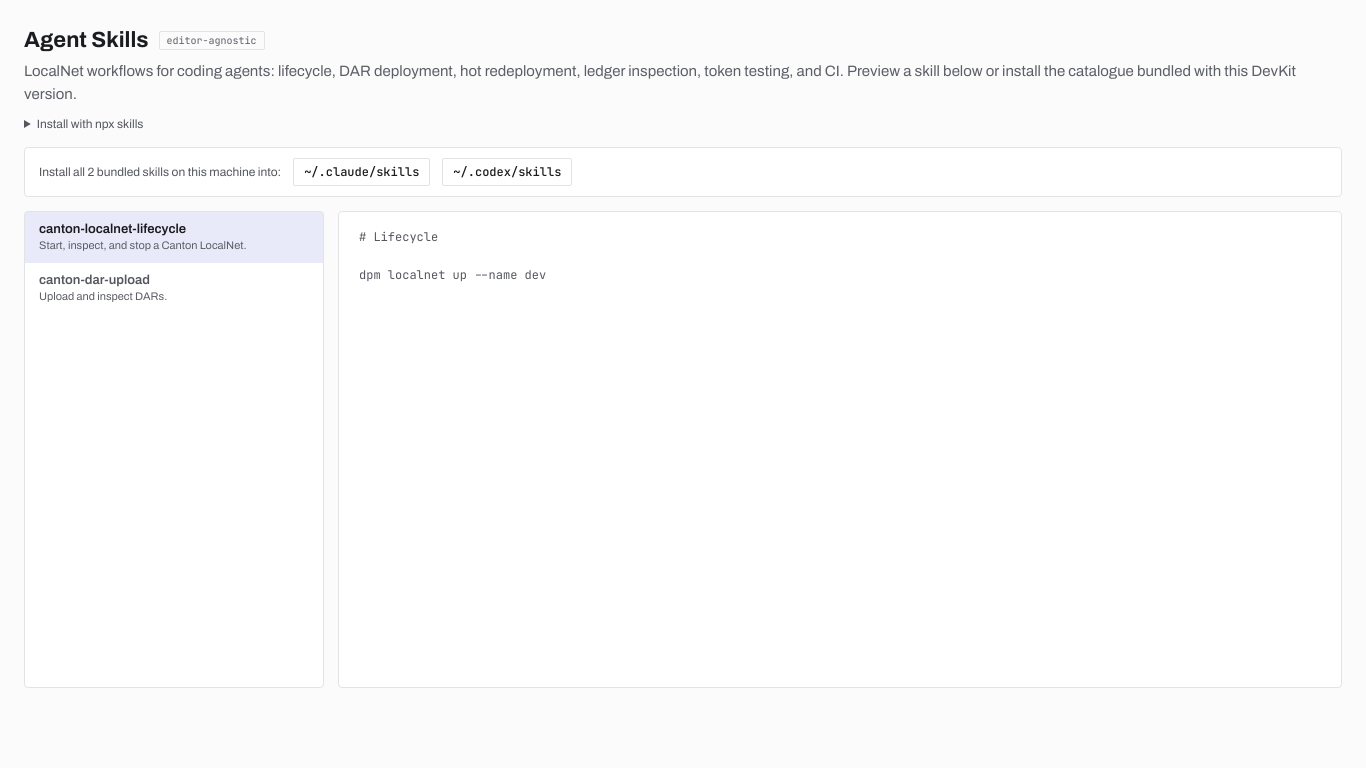
it: AgentSkillsScreen › posts a claude install with the right body shape
The width and height of the screenshot is (1366, 768).
Expected: the text "canton-localnet-lifecycle" is shown, [39,222,186,236]
Click the button "~/.claude/skills": coordinates (362, 172) [293,158,430,186]
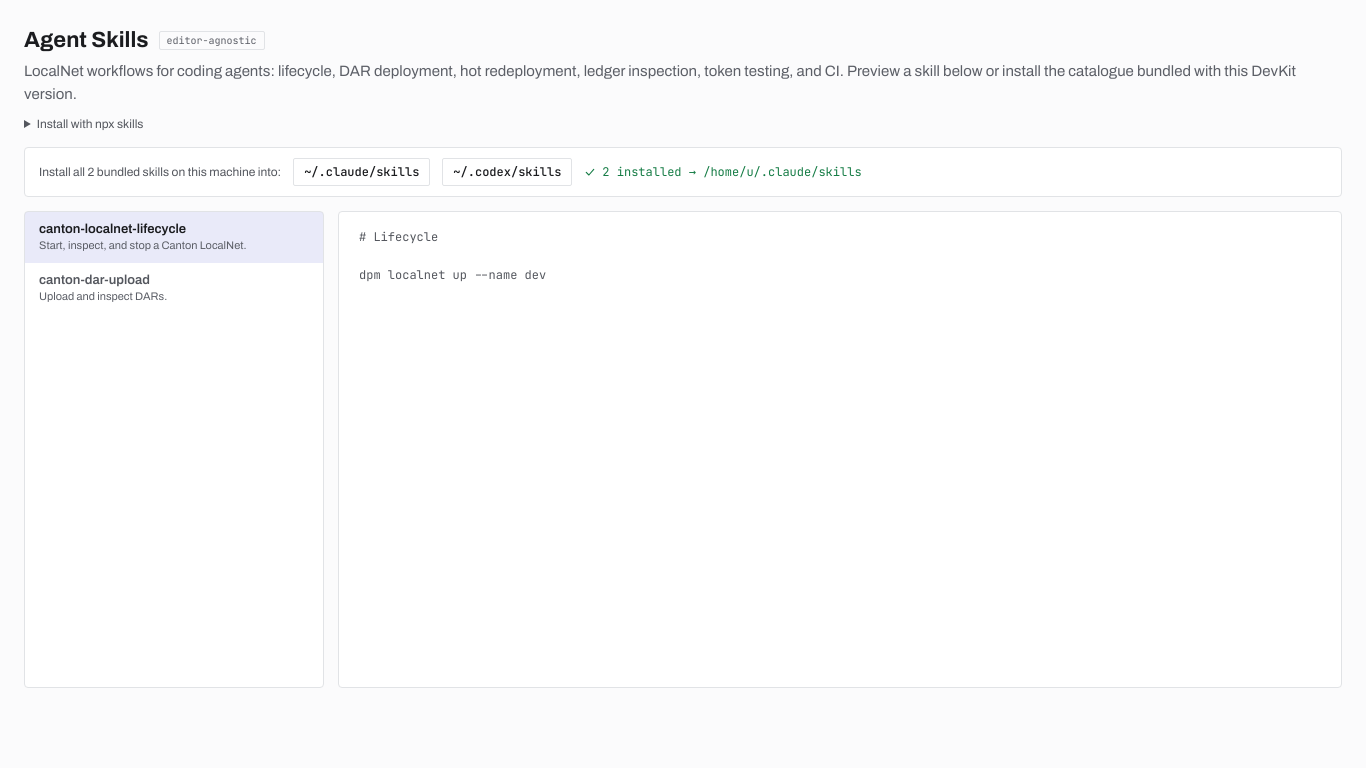
Expected: the text "2 installed → /home/u/.claude/skills" is shown, [584,163,862,181]
